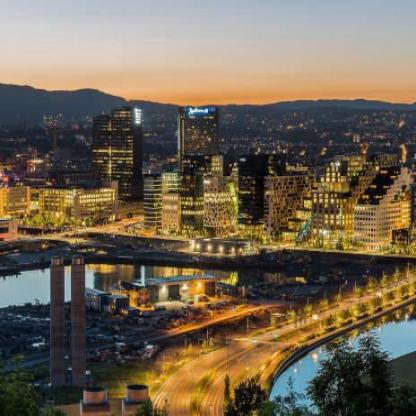other: (284, 165, 403, 252), (158, 275, 280, 336), (28, 177, 113, 227)
